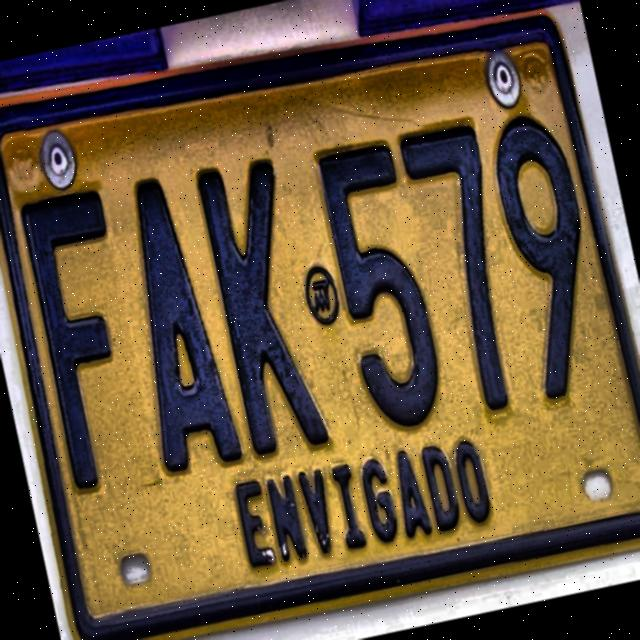plate: (0, 9, 640, 640)
